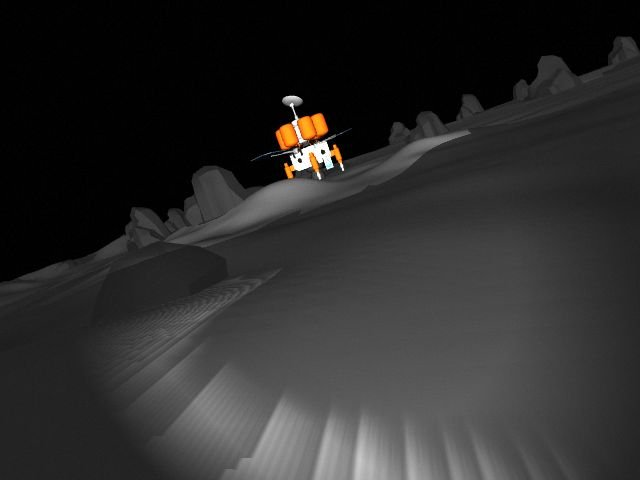homebase: (251, 92, 360, 187)
